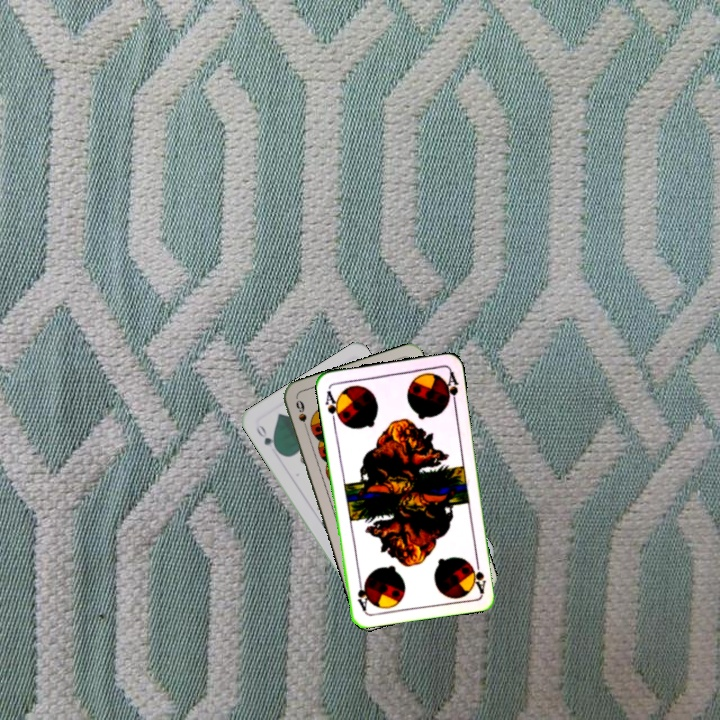GO: (252, 420, 281, 455)
S9: (292, 396, 311, 436)
SA: (467, 554, 489, 595), (321, 387, 344, 426)
